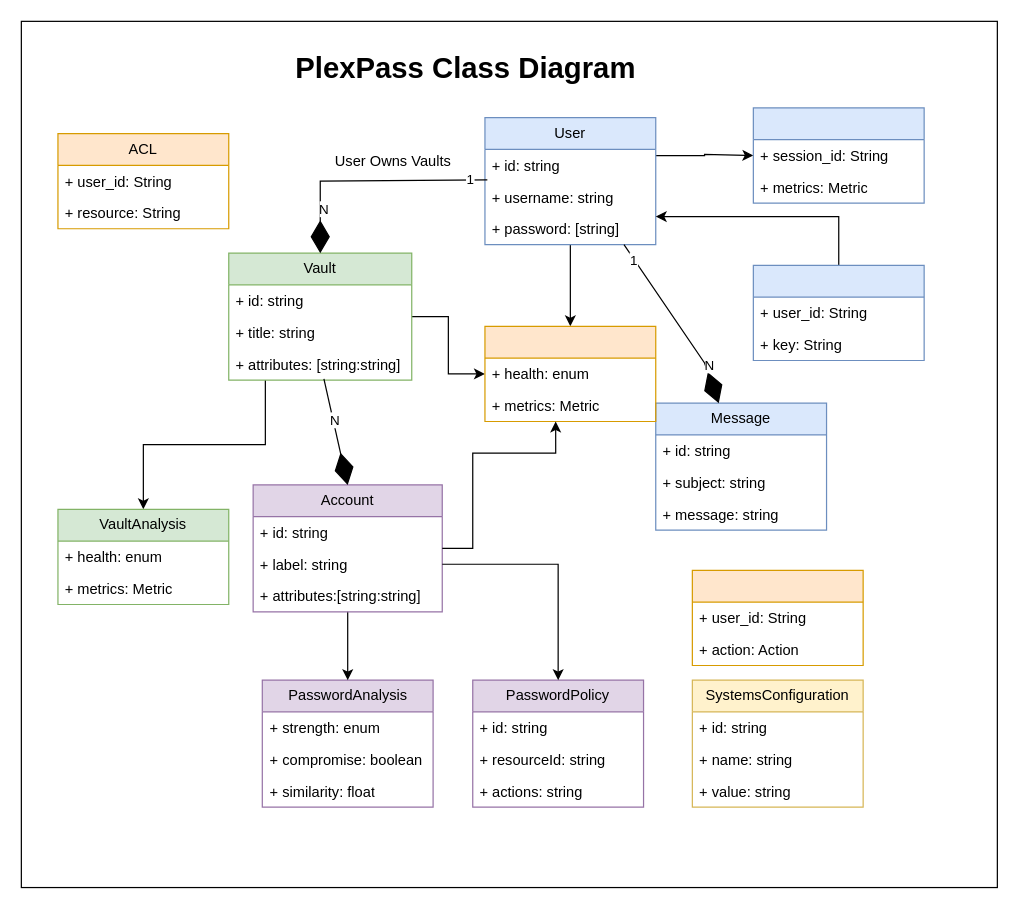
The diagram is 1019 pixels wide and 909 high, and some of its shapes have lost their labels. Each missing label, with the box of its shape:
AuditLog: (691, 569, 863, 666)
CryptoKeys: (484, 325, 656, 422)
LoginSession: (752, 107, 924, 203)
UserContext: (752, 264, 924, 361)
